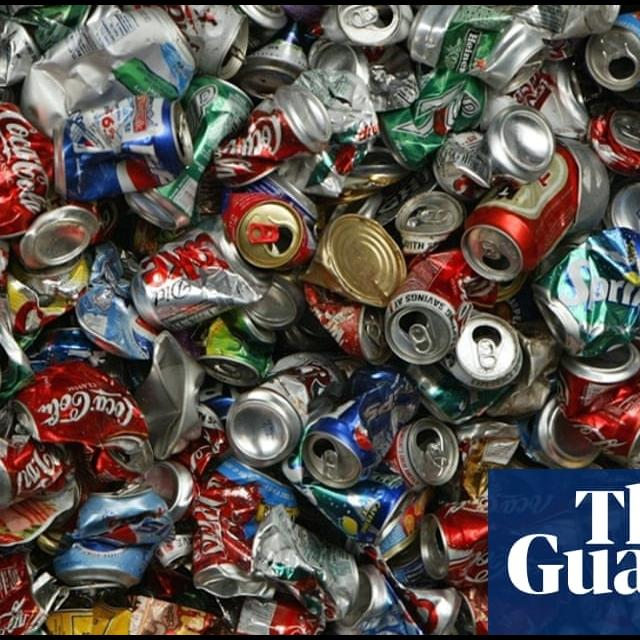metal: (437, 126, 623, 286), (12, 5, 213, 142), (100, 206, 289, 335), (40, 84, 213, 215), (0, 354, 173, 482), (407, 475, 592, 593), (205, 343, 352, 474), (41, 460, 172, 606), (353, 235, 500, 364), (290, 358, 424, 491), (522, 210, 640, 361), (190, 80, 343, 184), (371, 61, 502, 178), (402, 5, 554, 92), (182, 461, 273, 604), (209, 180, 323, 276), (0, 95, 66, 241), (0, 421, 94, 515), (570, 6, 640, 98), (0, 547, 73, 634), (315, 5, 420, 52)
